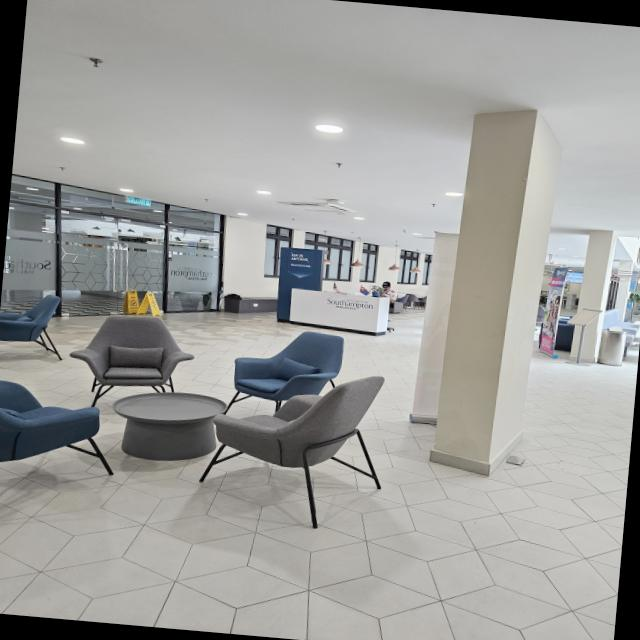footpath: (0, 493, 621, 640)
obstacle: (200, 314, 393, 526), (0, 366, 115, 475), (70, 309, 204, 393), (108, 390, 216, 467)
wall: (421, 91, 568, 482)
